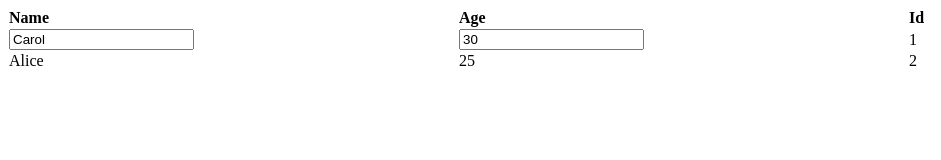
row editing mode › puts the editors back when the application declines to close a cancelled row
Replace the text in the field named "Edit Name" with "Drafted": (102, 40) x1=9 y1=29 x2=194 y2=50
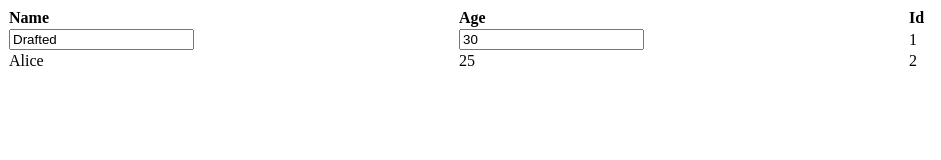
Press Escape in the field named "Edit Name", box x1=9 y1=29 x2=194 y2=50
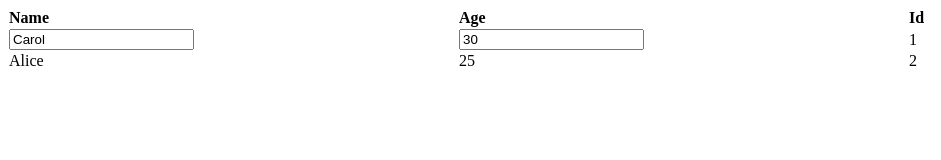
expect the field named "Edit Name" holds "Carol": met, box x1=9 y1=29 x2=194 y2=50
